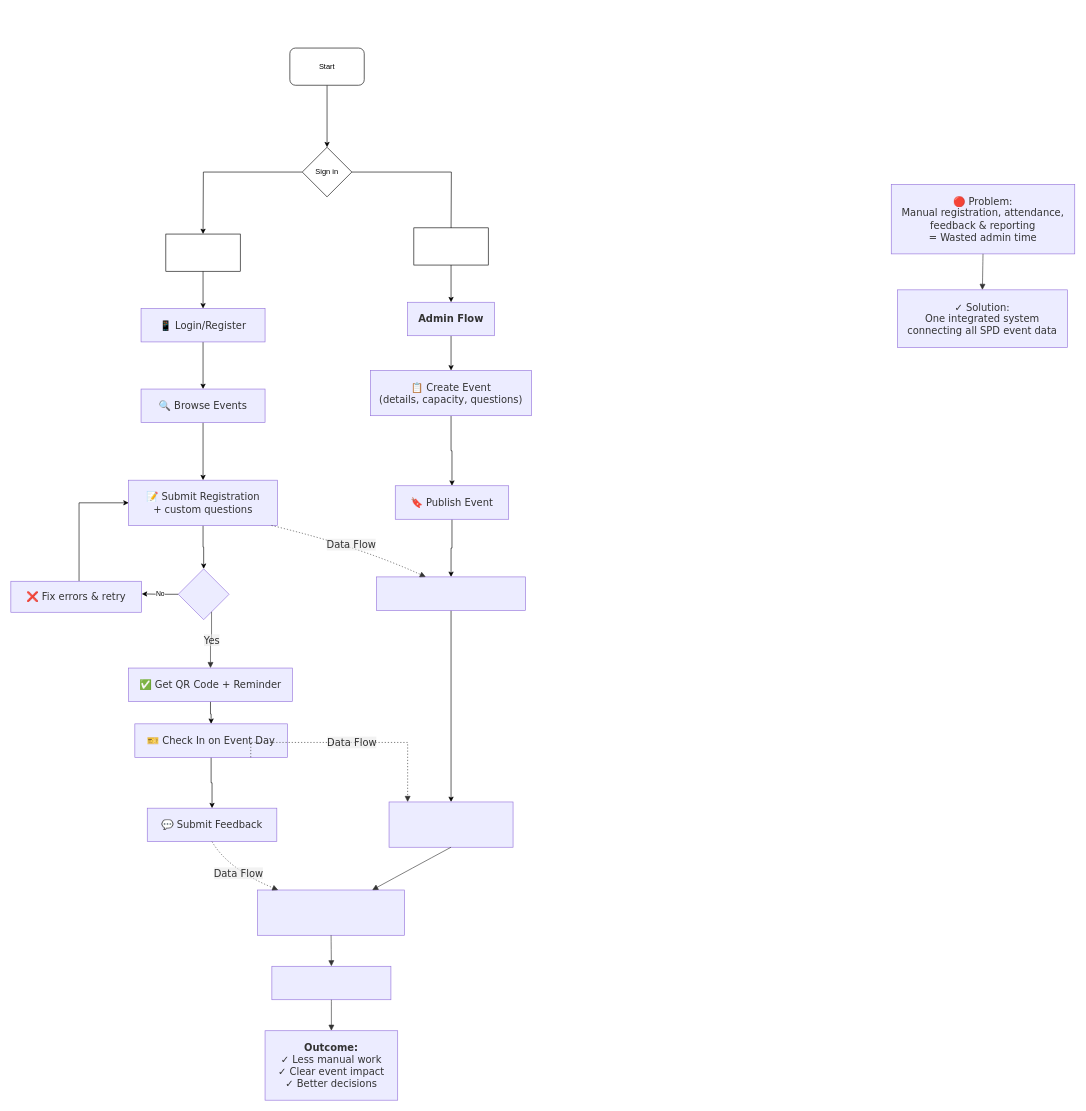
Image size: 1086x1111. Some labels were removed from this diagram. The shapes that lost their labels are listed below. From the top down, each one's box as (x1, y1, x2, y2) in pixels, then its label:
(165, 233, 240, 271): Caregiver
(413, 227, 488, 265): Admin
(178, 568, 229, 620): Valid?
(376, 576, 525, 610): 📊 Monitor Registrations
(388, 801, 513, 847): ✅ Take Attendance (QR or manual)
(257, 889, 405, 935): 📈 View Dashboards (attendance + feedback)
(271, 966, 391, 1000): 📤 Export Reports
